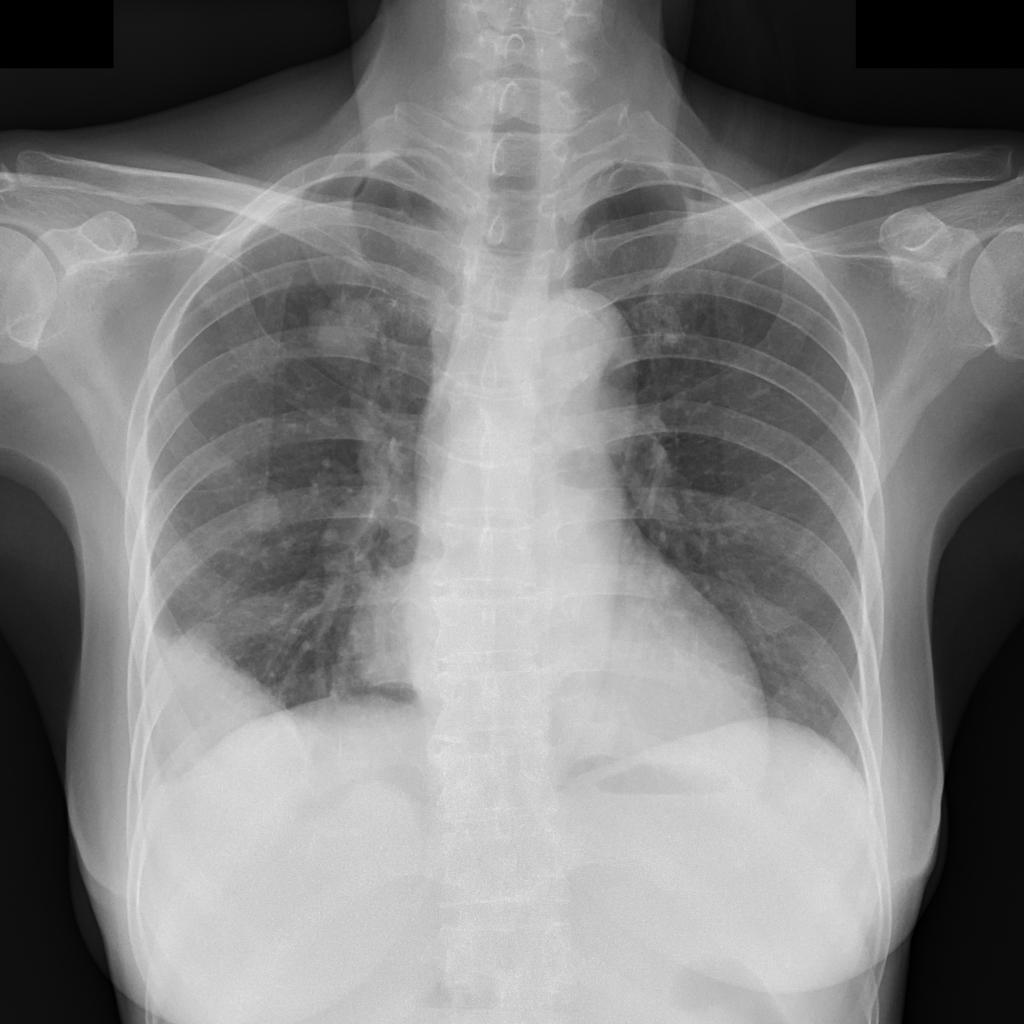Nodule: (137, 638, 301, 792), (360, 570, 457, 690), (304, 294, 386, 357), (248, 492, 283, 533), (199, 288, 219, 310)
